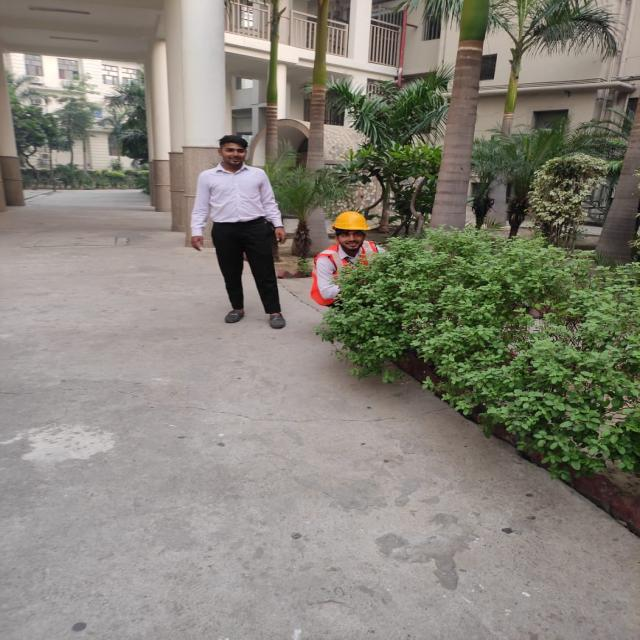safe: (311, 209, 381, 326)
unsafe: (202, 142, 296, 334)
